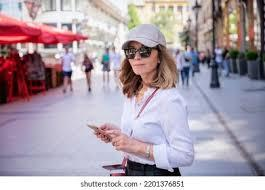cap: (117, 20, 175, 55)
sunglasses: (121, 45, 157, 60)
